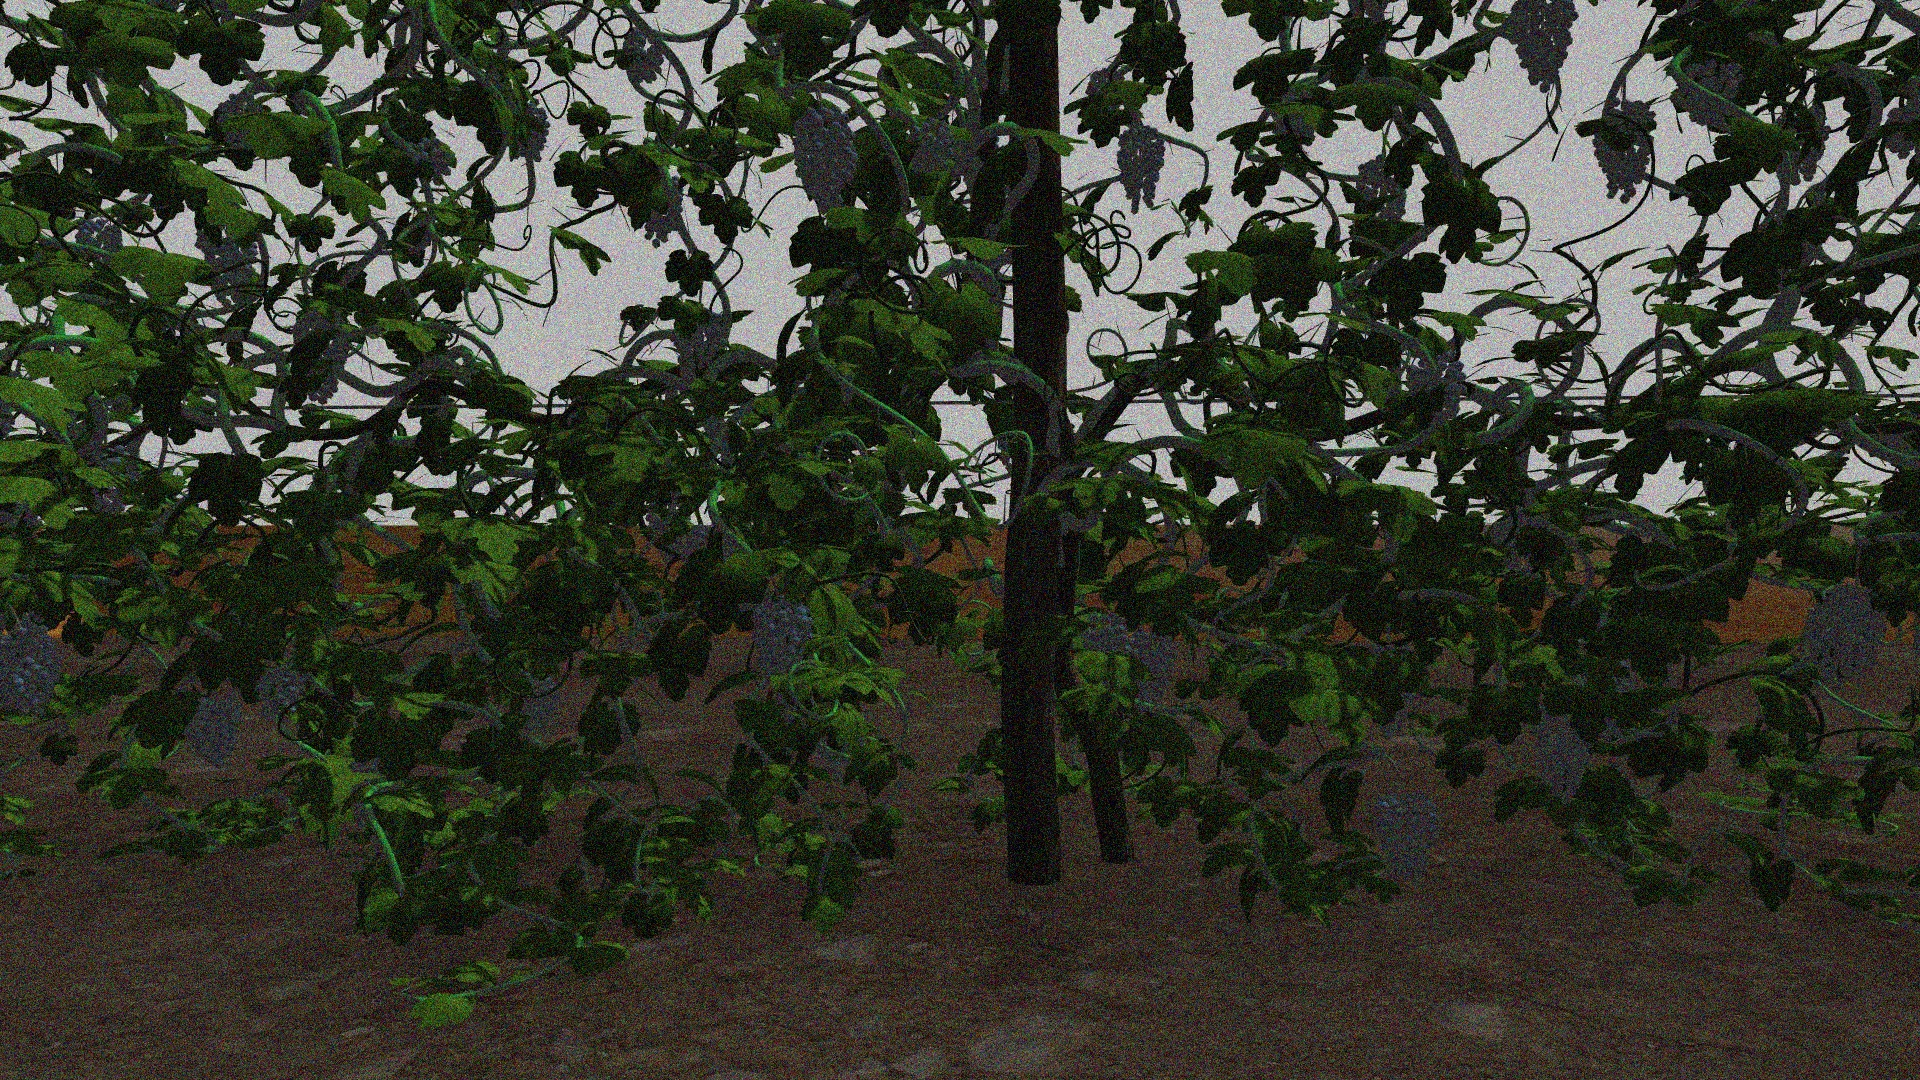grape: (1804, 585, 1888, 682), (1501, 7, 1580, 98), (791, 105, 857, 214), (1590, 98, 1658, 203), (1373, 790, 1443, 887), (1400, 345, 1470, 436), (1664, 57, 1746, 133), (1532, 712, 1594, 811), (195, 227, 264, 309), (11, 615, 61, 724), (752, 589, 810, 680), (291, 313, 349, 401), (1124, 633, 1178, 721), (187, 690, 244, 771), (673, 299, 725, 386), (1114, 124, 1164, 214), (1352, 154, 1411, 228), (1269, 80, 1324, 160), (255, 662, 305, 731), (516, 676, 564, 742), (214, 94, 265, 154), (1073, 611, 1127, 665), (71, 218, 123, 272), (645, 178, 684, 248), (905, 117, 951, 177), (618, 30, 666, 87), (407, 132, 458, 183), (516, 98, 550, 164)
